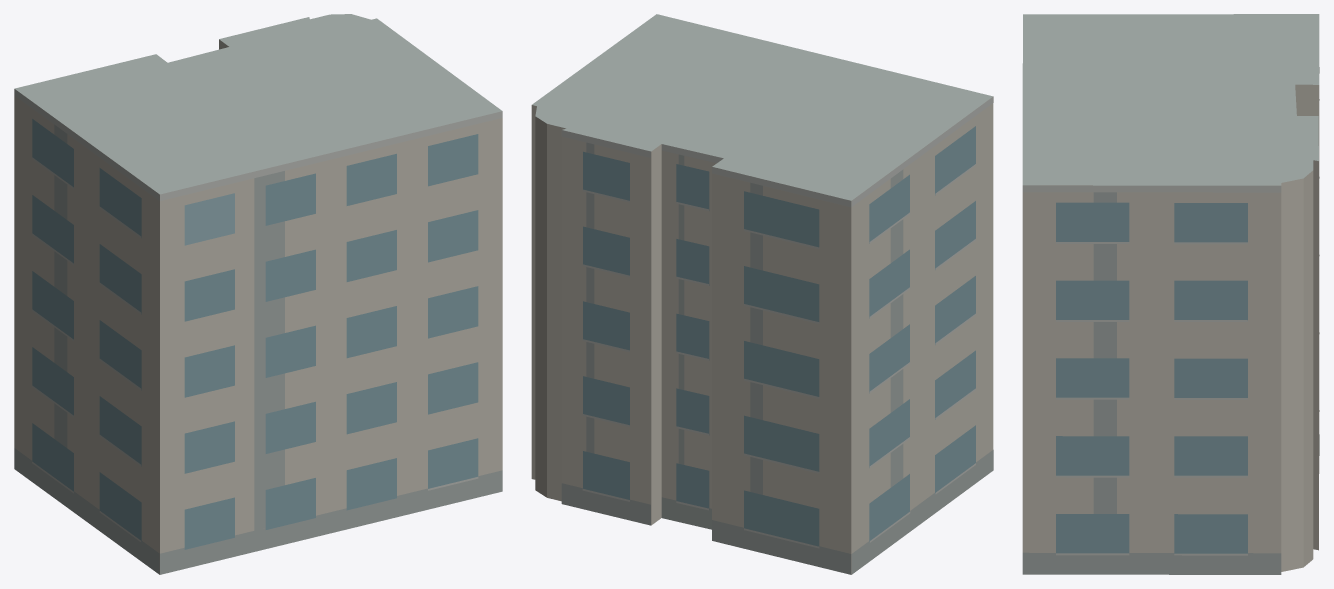
Rendered from survey-upis-32881107.glb.
The picture shows the model from 3 angles, left to right: view 1: azimuth 30°, elevation 25°; view 2: azimuth 150°, elevation 25°; view 3: azimuth 270°, elevation 25°; orthographic projection. The views are drawn at different scales.
Parts seen in each view (by area): view 1: survey-upis-32881107.tmp; view 2: survey-upis-32881107.tmp; view 3: survey-upis-32881107.tmp.
Boxes of the visible parts, x1,y1,x2,y2 form: survey-upis-32881107.tmp: [14, 14, 502, 574]; survey-upis-32881107.tmp: [531, 14, 993, 574]; survey-upis-32881107.tmp: [1022, 14, 1319, 574].
Bounding box in the file's own units: 13.13 × 13.85 × 9.6.
